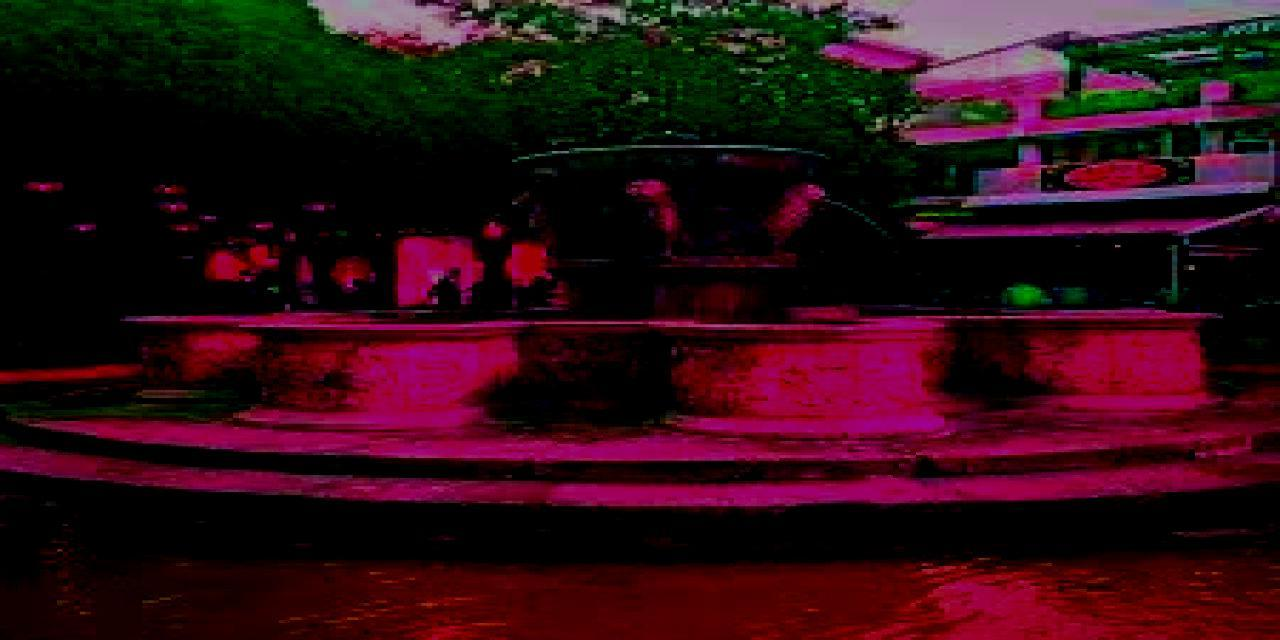Liontaria: (125, 142, 1220, 439)
